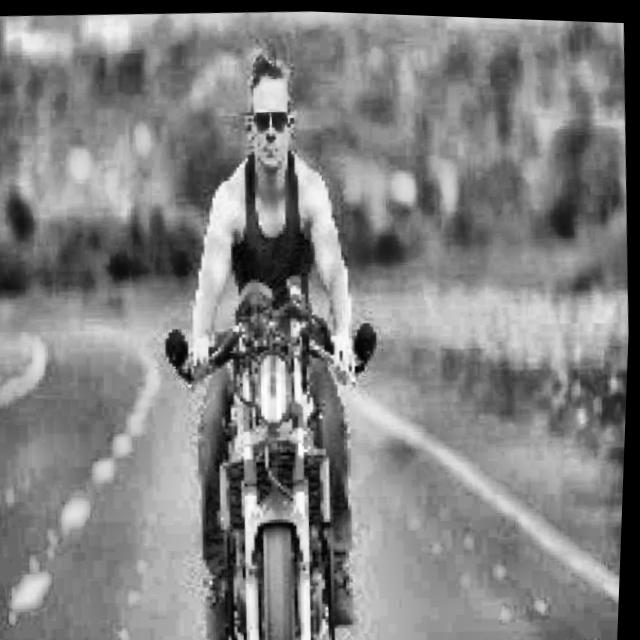motorcycle: (138, 288, 410, 640)
